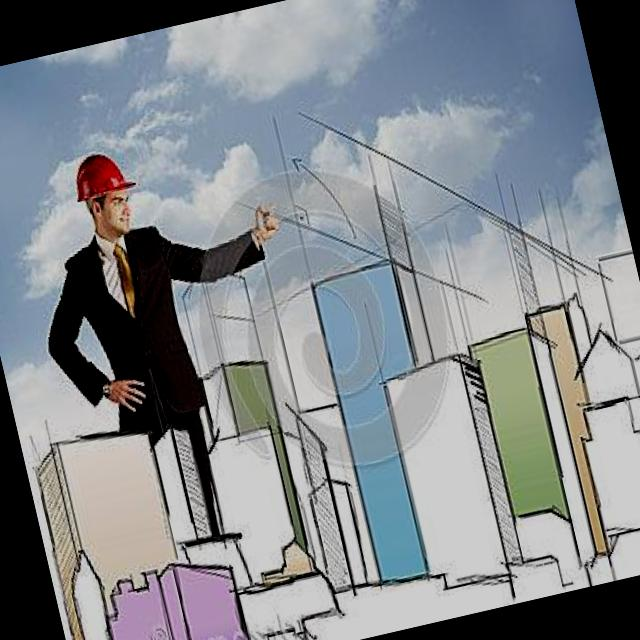helmet: (68, 148, 133, 201)
no-vest: (21, 187, 216, 432)
